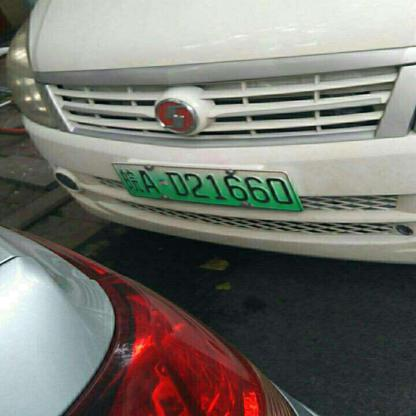lp: (112, 165, 302, 212)
